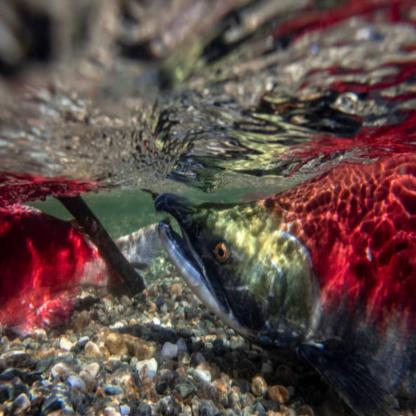sockeye: (145, 155, 416, 352)
